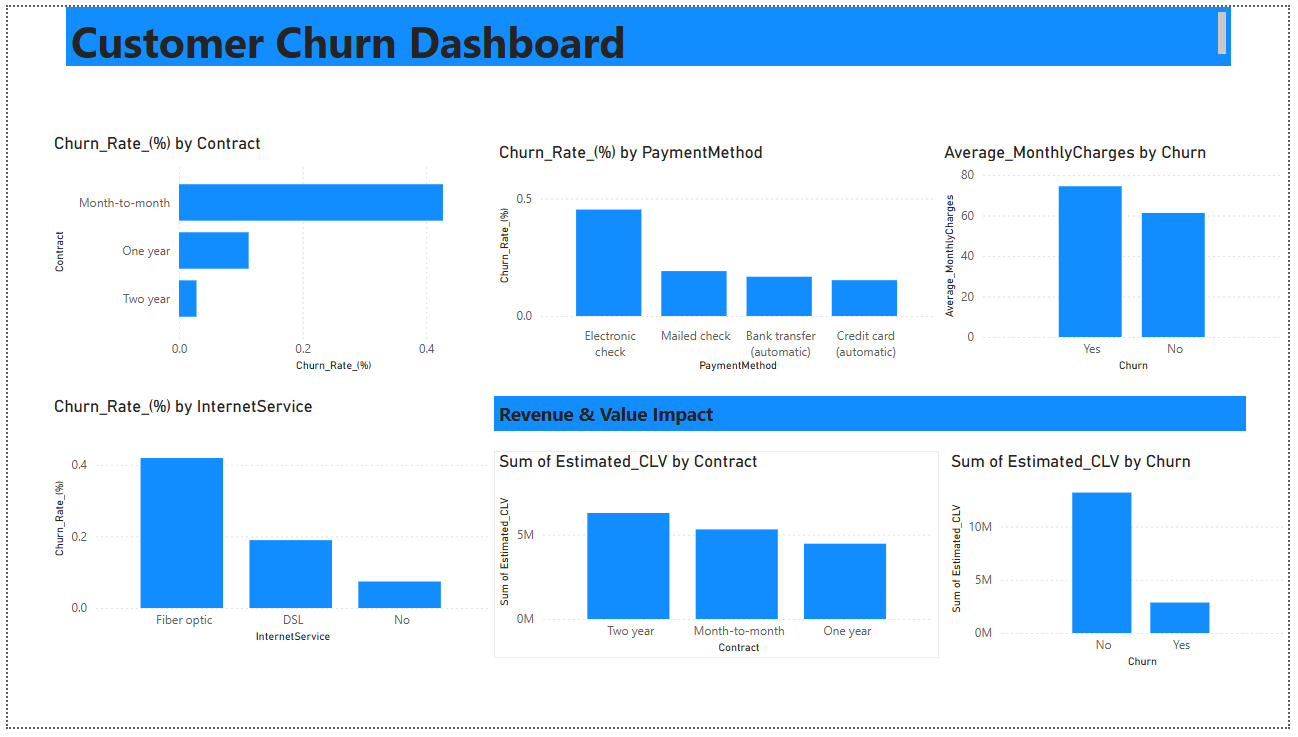

What the dashboard file says about the page in this screenshot:
{"tool":"powerbi","page":{"name":"Page 2","canvas":[1280,720],"ordinal":1},"visuals":[{"type":"textbox","box":[58.3,0,1164.4,59.3],"z":0},{"type":"barChart","fields":{"Category":["WA_Fn-UseC_-Telco-Customer-Churn.Contract"],"Y":["WA_Fn-UseC_-Telco-Customer-Churn.Churn_Rate_(%)"]},"box":[41,126.2,452.3,243.1],"z":2},{"type":"columnChart","fields":{"Category":["WA_Fn-UseC_-Telco-Customer-Churn.InternetService"],"Y":["WA_Fn-UseC_-Telco-Customer-Churn.Churn_Rate_(%)"]},"box":[41,388.7,445.1,251.3],"z":3},{"type":"columnChart","fields":{"Y":["WA_Fn-UseC_-Telco-Customer-Churn.Churn_Rate_(%)"],"Category":["WA_Fn-UseC_-Telco-Customer-Churn.PaymentMethod"]},"box":[486.2,135.4,445.1,233.8],"z":4},{"type":"columnChart","fields":{"Y":["WA_Fn-UseC_-Telco-Customer-Churn.Average_MonthlyCharges"],"Category":["WA_Fn-UseC_-Telco-Customer-Churn.Churn"]},"box":[931.3,135.4,348.7,233.8],"z":5},{"type":"columnChart","fields":{"Y":["Sum(WA_Fn-UseC_-Telco-Customer-Churn.Estimated_CLV)"],"Category":["WA_Fn-UseC_-Telco-Customer-Churn.Contract"]},"box":[486.2,444.1,445.1,207.2],"z":6},{"type":"columnChart","fields":{"Y":["Sum(WA_Fn-UseC_-Telco-Customer-Churn.Estimated_CLV)"],"Category":["WA_Fn-UseC_-Telco-Customer-Churn.Churn"]},"box":[938.5,444.1,341.5,220.5],"z":7},{"type":"textbox","box":[486.2,388.7,751.8,34.9],"z":8}]}

Visuals, with their boxes in screenshot pixels (x1, y1, x2, y2), scaled from the page's 1280x720 canvas onto the 1298x737 screenshot:
textbox: 59,0,1240,61
barChart - WA_Fn-UseC_-Telco-Customer-Churn.Contract x WA_Fn-UseC_-Telco-Customer-Churn.Churn_Rate_(%): 42,129,500,378
columnChart - WA_Fn-UseC_-Telco-Customer-Churn.InternetService x WA_Fn-UseC_-Telco-Customer-Churn.Churn_Rate_(%): 42,398,493,655
columnChart - WA_Fn-UseC_-Telco-Customer-Churn.Churn_Rate_(%) x WA_Fn-UseC_-Telco-Customer-Churn.PaymentMethod: 493,139,944,378
columnChart - WA_Fn-UseC_-Telco-Customer-Churn.Average_MonthlyCharges x WA_Fn-UseC_-Telco-Customer-Churn.Churn: 944,139,1297,378
columnChart - Sum(WA_Fn-UseC_-Telco-Customer-Churn.Estimated_CLV) x WA_Fn-UseC_-Telco-Customer-Churn.Contract: 493,455,944,667
columnChart - Sum(WA_Fn-UseC_-Telco-Customer-Churn.Estimated_CLV) x WA_Fn-UseC_-Telco-Customer-Churn.Churn: 952,455,1297,680
textbox: 493,398,1255,434
